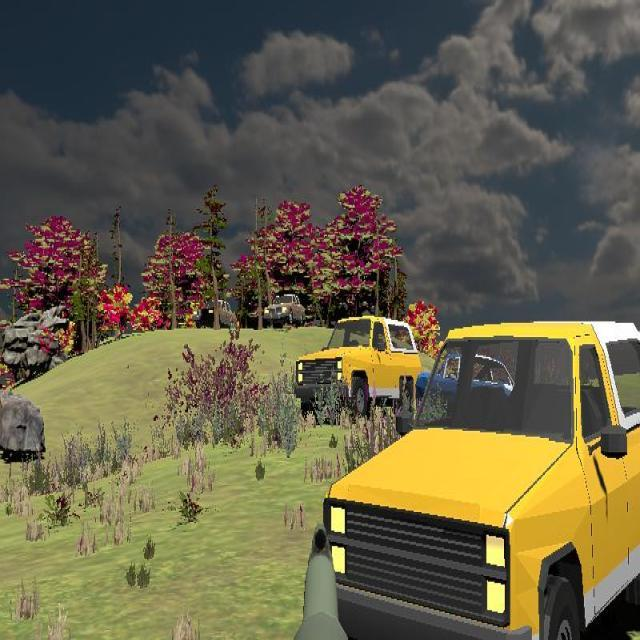car: (320, 321, 640, 639), (294, 315, 422, 420), (263, 293, 305, 329), (266, 293, 305, 329)
